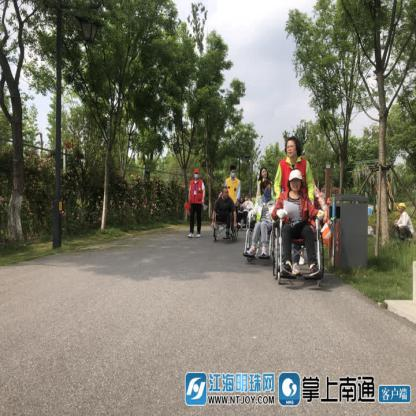wheelchair: (272, 168, 327, 283), (246, 182, 279, 264), (211, 187, 238, 242)
